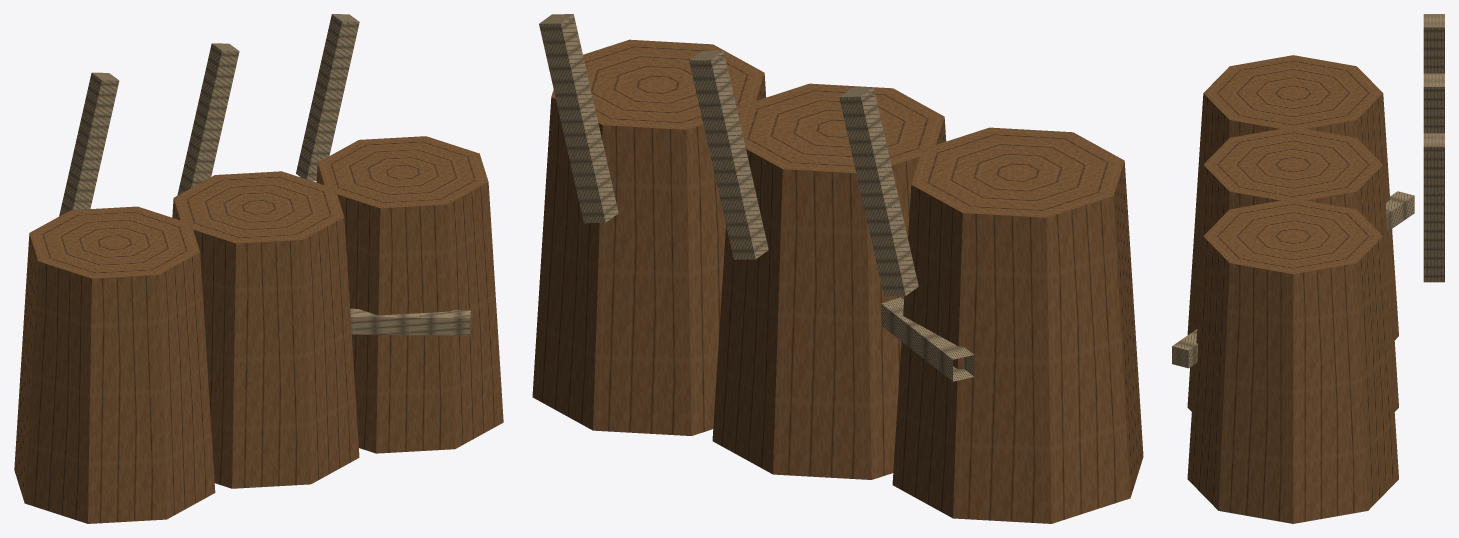
Rendered from military-INFERNO_SEED-1-lod1.glb.
The picture shows the model from 3 angles, left to right: view 1: azimuth 30°, elevation 25°; view 2: azimuth 150°, elevation 25°; view 3: azimuth 270°, elevation 25°; orthographic projection. The views are drawn at different scales.
Bounding box in the file's own units: 0.39 × 0.2718 × 0.1935.
Materials: 1 (1 with a texture image).
